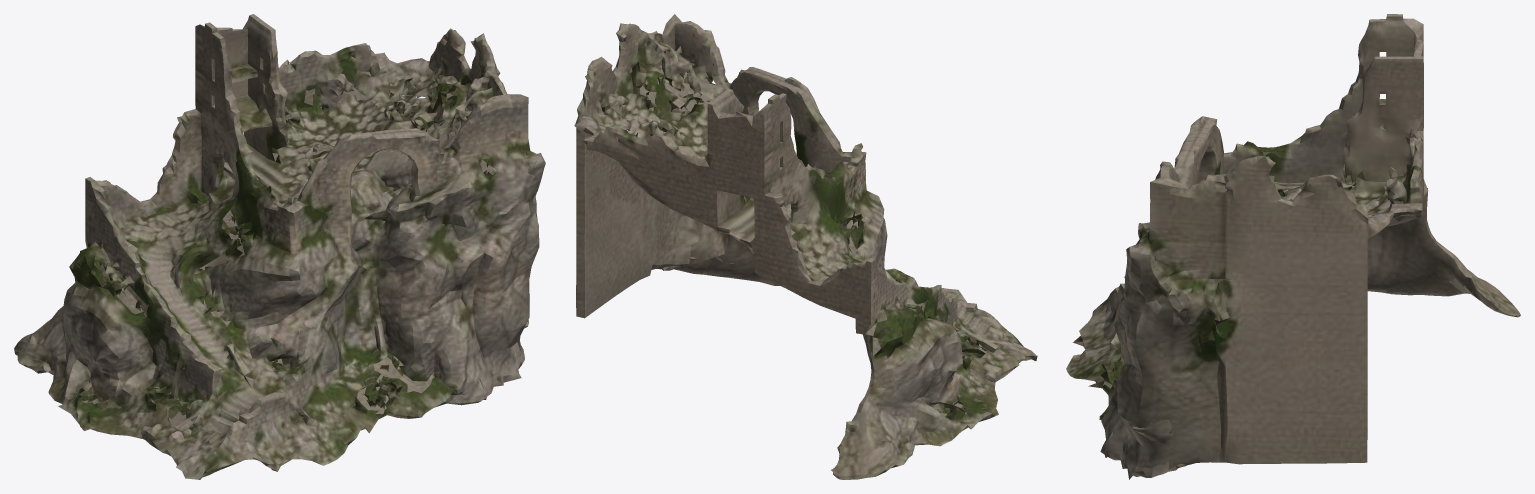
File: Ruins.glb
3 renders of one model, left to right at view 1: azimuth 30°, elevation 25°; view 2: azimuth 150°, elevation 25°; view 3: azimuth 270°, elevation 25°, orthographic. The views are drawn at different scales.
Parts seen in each view (by area): view 1: Mesh0; view 2: Mesh0; view 3: Mesh0.
Boxes of the visible parts, bbox=[...] form: Mesh0: bbox=[14, 14, 545, 479]; Mesh0: bbox=[574, 14, 1037, 479]; Mesh0: bbox=[1066, 14, 1520, 479].
Bounding box in the file's own units: 1.84 × 1.39 × 1.54.
Materials: 1 (1 with a texture image).
